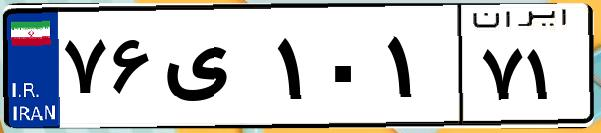0: (330, 28, 385, 110)
1: (270, 28, 330, 110), (385, 28, 445, 110), (525, 38, 570, 115)
6: (110, 28, 158, 98)
7: (57, 26, 110, 100), (475, 38, 525, 113)
ی: (158, 20, 270, 120)
